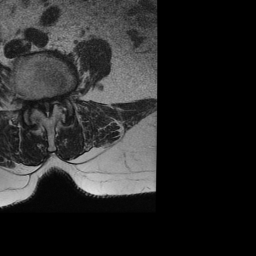CCS_normal: (42, 93, 49, 120)
LFS_severe_stenosis: (56, 84, 62, 108)
LLS_severe_stenosis: (49, 89, 55, 113)
RFS_severe_stenosis: (28, 87, 36, 109)
RLS_severe_stenosis: (35, 91, 42, 113)
